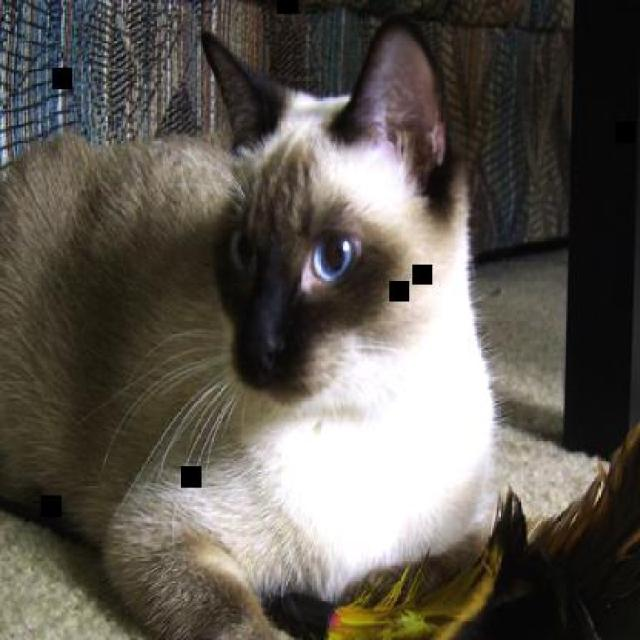cat: (0, 10, 492, 638)
